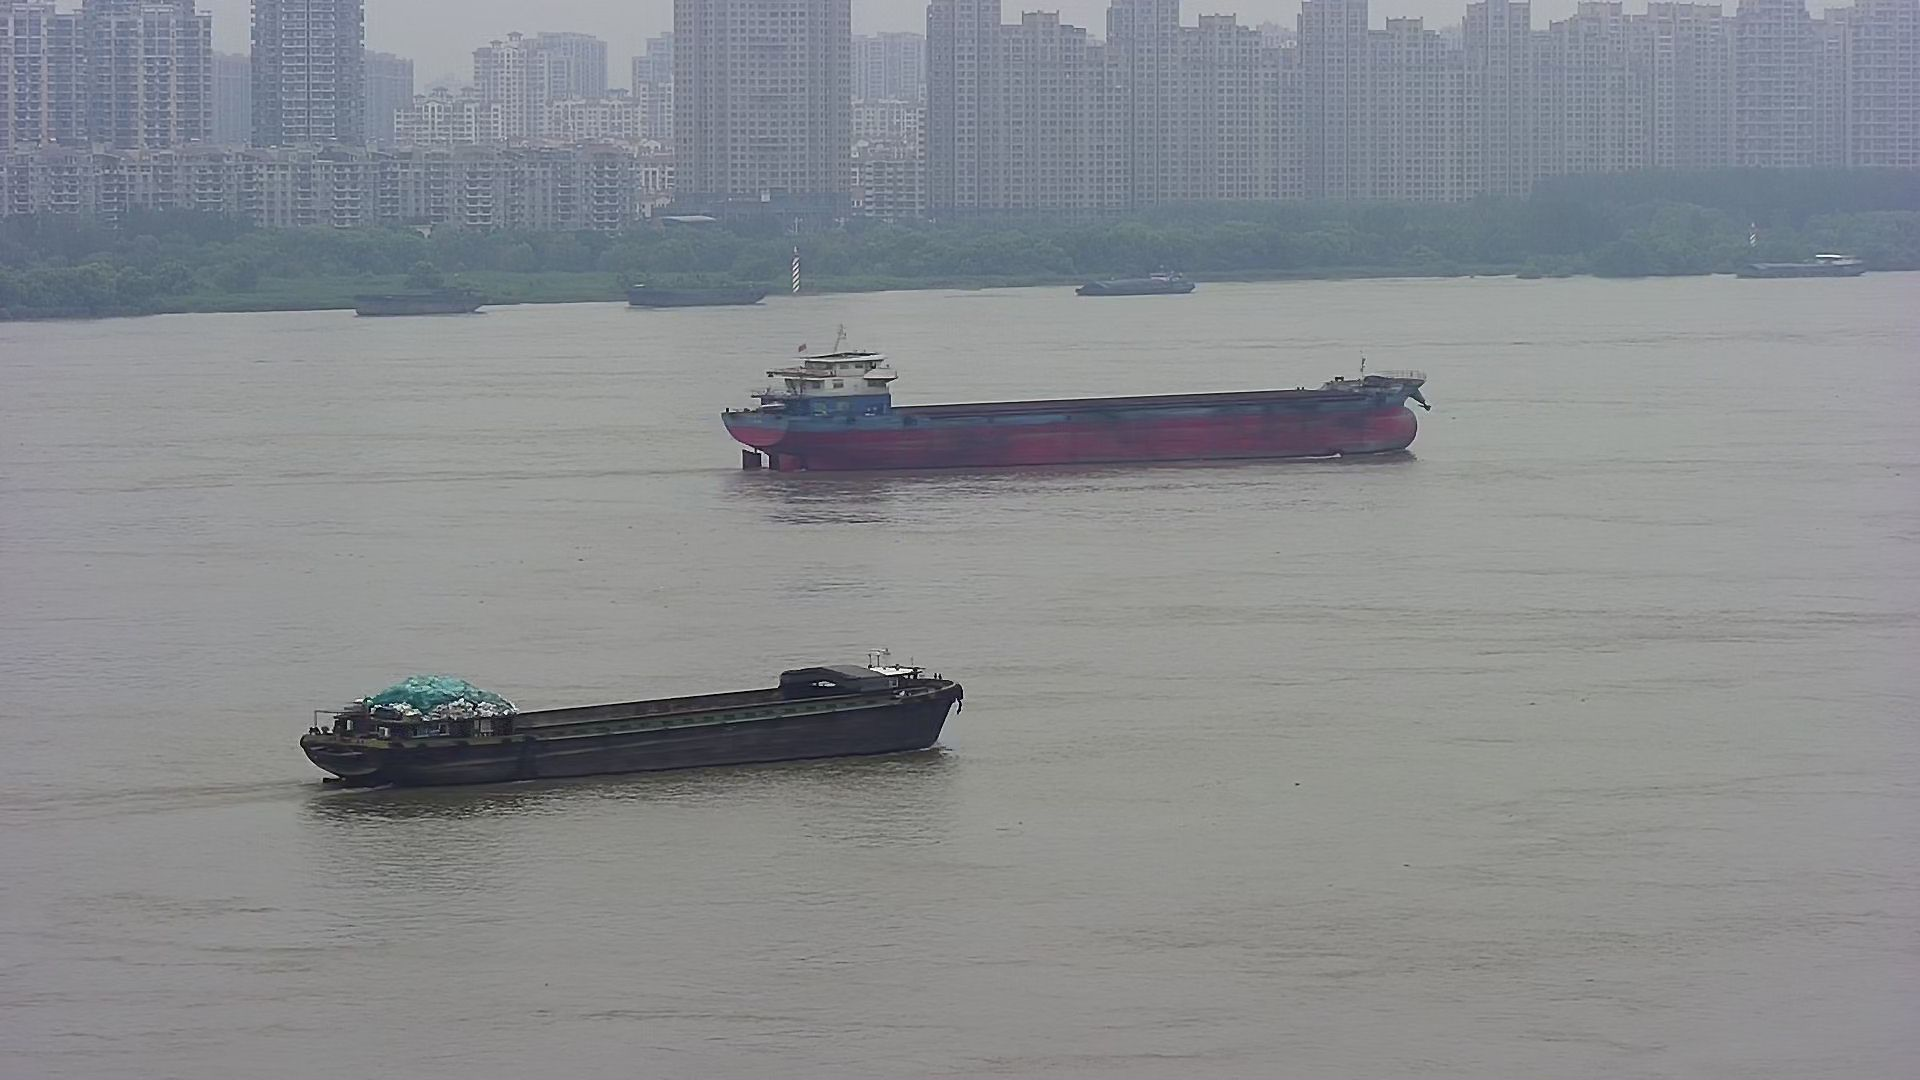ship: (705, 334, 1457, 491), (293, 650, 996, 796), (609, 256, 781, 311), (339, 270, 495, 328), (1730, 239, 1878, 295), (1063, 252, 1212, 305)
